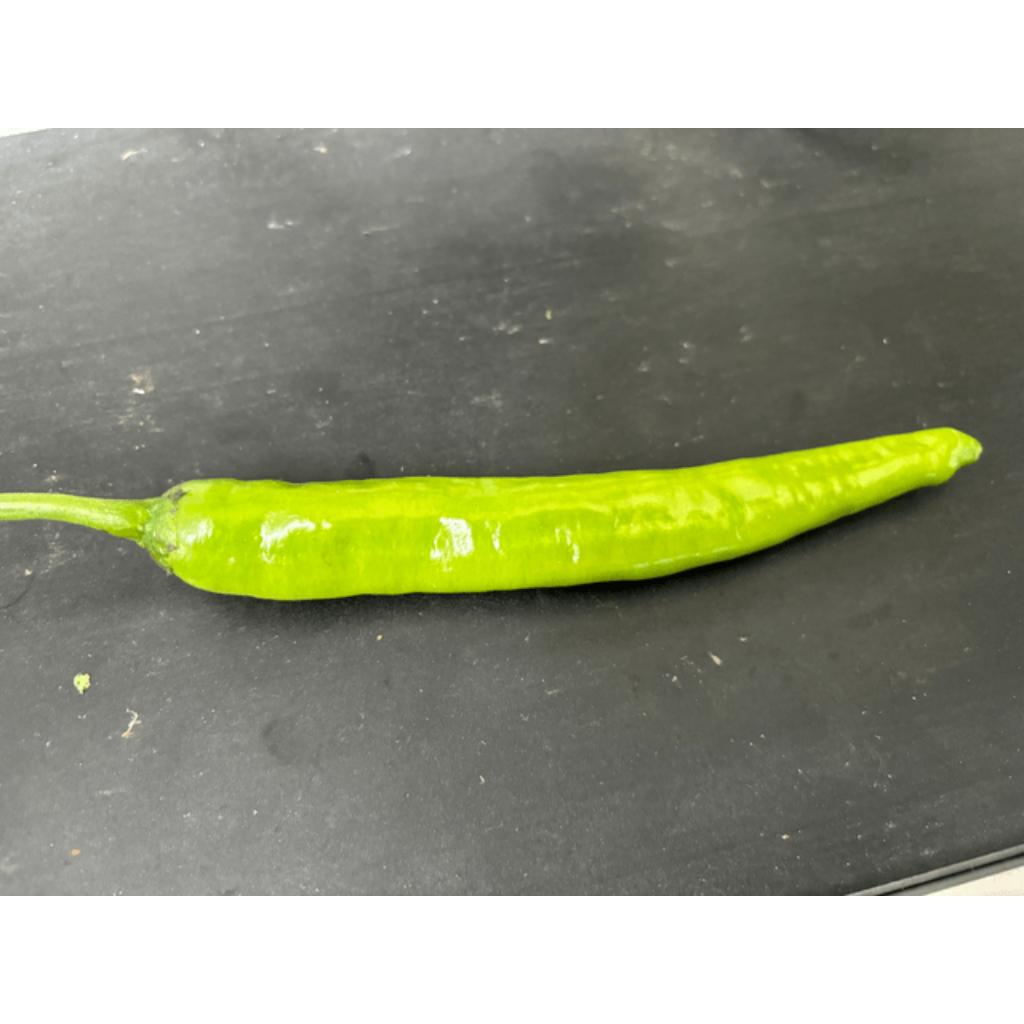chili: (140, 428, 988, 601)
